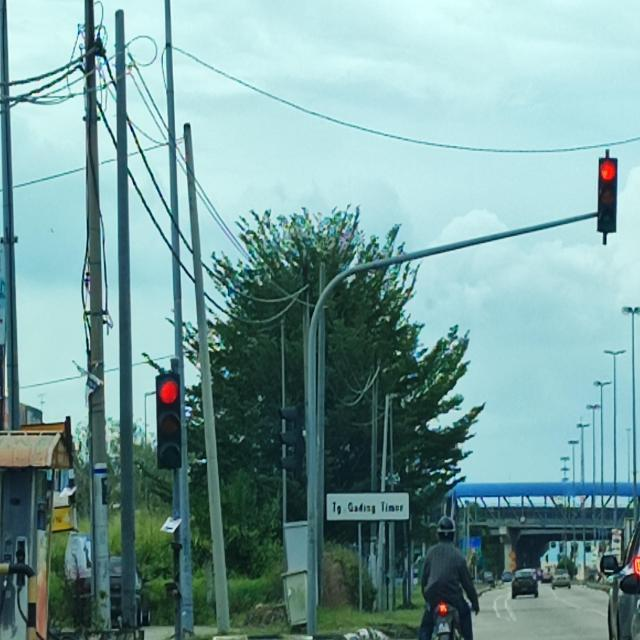red_light: (156, 373, 182, 470), (596, 158, 618, 232)
